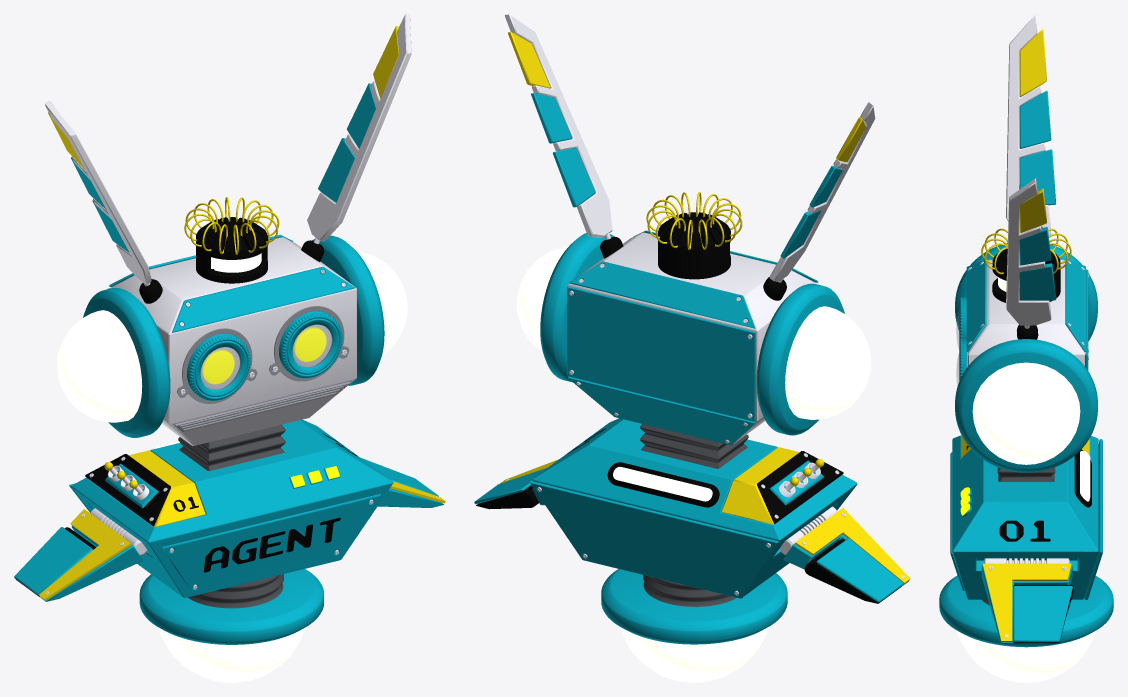
The model's file is bee_bot7_blue_3.glb.
3 renders of one model, left to right at view 1: azimuth 30°, elevation 25°; view 2: azimuth 150°, elevation 25°; view 3: azimuth 270°, elevation 25°, orthographic. The views are drawn at different scales.
Visible parts, largest first — view 1: Cube.006; view 2: Cube.006; view 3: Cube.006.
Part boxes in pixels (left/top/right/bottom): Cube.006: left=14, top=14, right=445, bottom=682; Cube.006: left=474, top=14, right=910, bottom=682; Cube.006: left=939, top=14, right=1113, bottom=682.
Size of the model in its own units: 0.6985 by 1.02 by 0.278.
